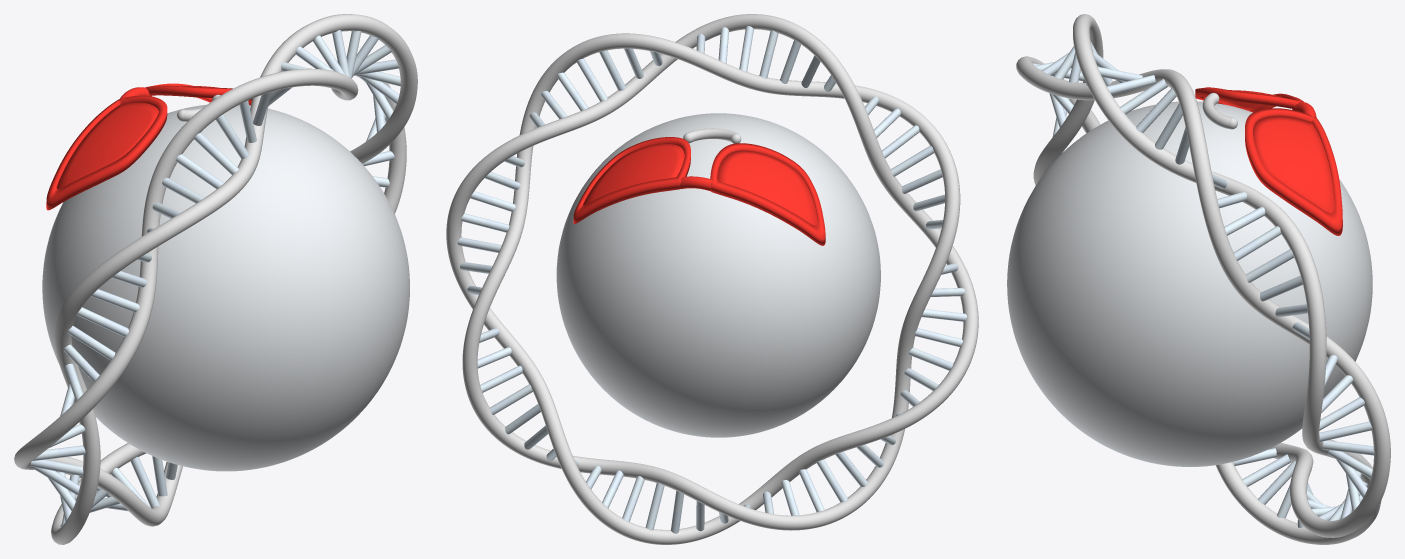
Rendered from BioVerse_Club_full.glb.
3 views of the same model, side by side, from view 1: azimuth 30°, elevation 25°; view 2: azimuth 150°, elevation 25°; view 3: azimuth 270°, elevation 25° (orthographic). The views are drawn at different scales.
Visible parts, largest first — view 1: Planet, DNA_Backbone_B, DNA_Backbone_A, Glasses_Frame_Left, Glasses_Lens_Left; view 2: Planet, DNA_Backbone_A, DNA_Backbone_B, Glasses_Lens_Left, Glasses_Frame_Left; view 3: Planet, DNA_Backbone_A, DNA_Backbone_B, Glasses_Lens_Left, Glasses_Frame_Left, Mouth.
Boxes of the visible parts, x1,y1,x2,y2 form: Planet: [42, 104, 409, 471]; DNA_Backbone_B: [51, 14, 417, 544]; DNA_Backbone_A: [14, 68, 406, 526]; Glasses_Frame_Left: [46, 83, 252, 210]; Glasses_Lens_Left: [56, 86, 251, 188]; Planet: [556, 113, 880, 437]; DNA_Backbone_A: [446, 14, 978, 544]; DNA_Backbone_B: [462, 33, 960, 530]; Glasses_Lens_Left: [583, 144, 818, 225]; Glasses_Frame_Left: [573, 137, 825, 245]; Planet: [1007, 101, 1372, 466]; DNA_Backbone_A: [1033, 14, 1381, 544]; DNA_Backbone_B: [1016, 56, 1390, 537]; Glasses_Lens_Left: [1203, 90, 1334, 213]; Glasses_Frame_Left: [1195, 87, 1342, 235]; Mouth: [1202, 93, 1230, 128].
Size of the model in its own units: 5.18 by 5.27 by 3.57.
